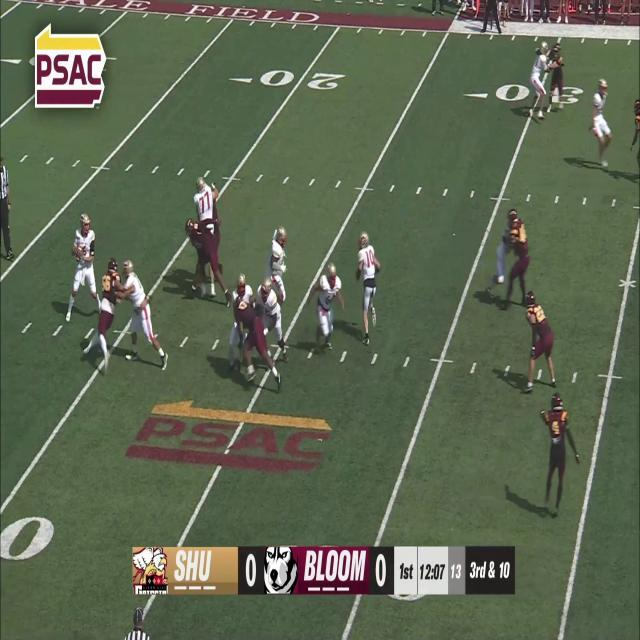football: (76, 249, 80, 261)
